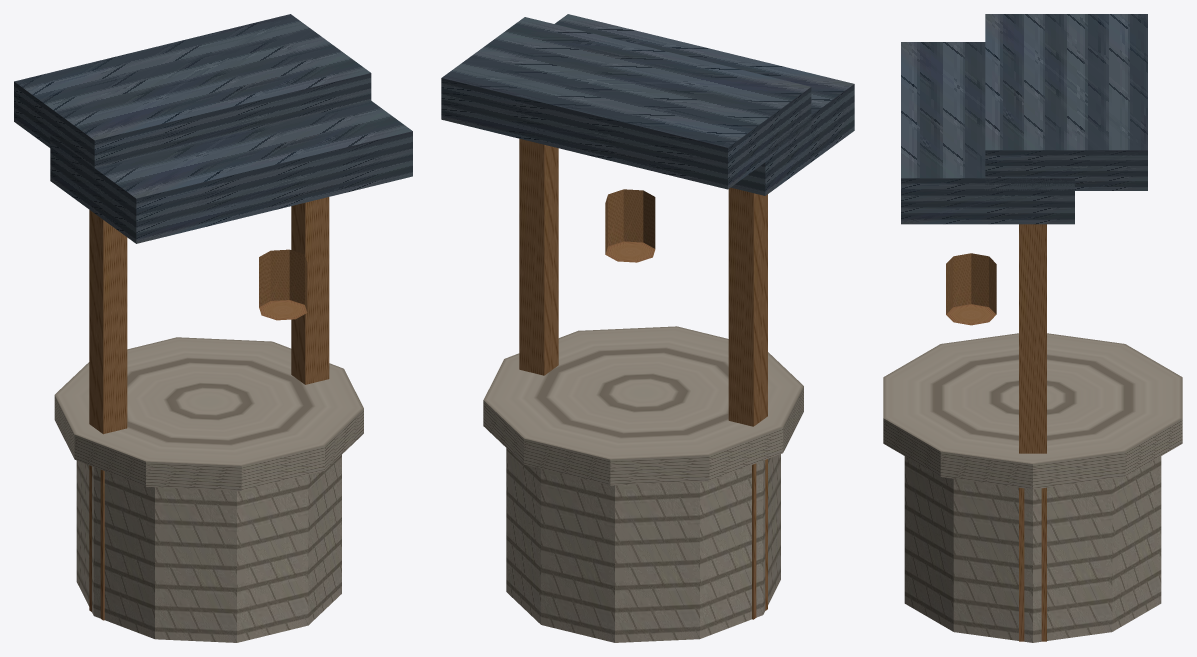
Rendered from acc_puits.93506a8488.glb.
3 renders of one model, left to right at view 1: azimuth 30°, elevation 25°; view 2: azimuth 150°, elevation 25°; view 3: azimuth 270°, elevation 25°, orthographic. The views are drawn at different scales.
Visible parts, largest first — view 1: puits (×3); view 2: puits (×3); view 3: puits (×3).
Part boxes in pixels (x1,y1,x2,y2): puits (×3): (14,14,412,642); puits (×3): (441,14,854,642); puits (×3): (883,14,1182,642).
Size of the model in its own units: 1.15 by 1.98 by 1.07.
Materials: 4 (4 with a texture image).
